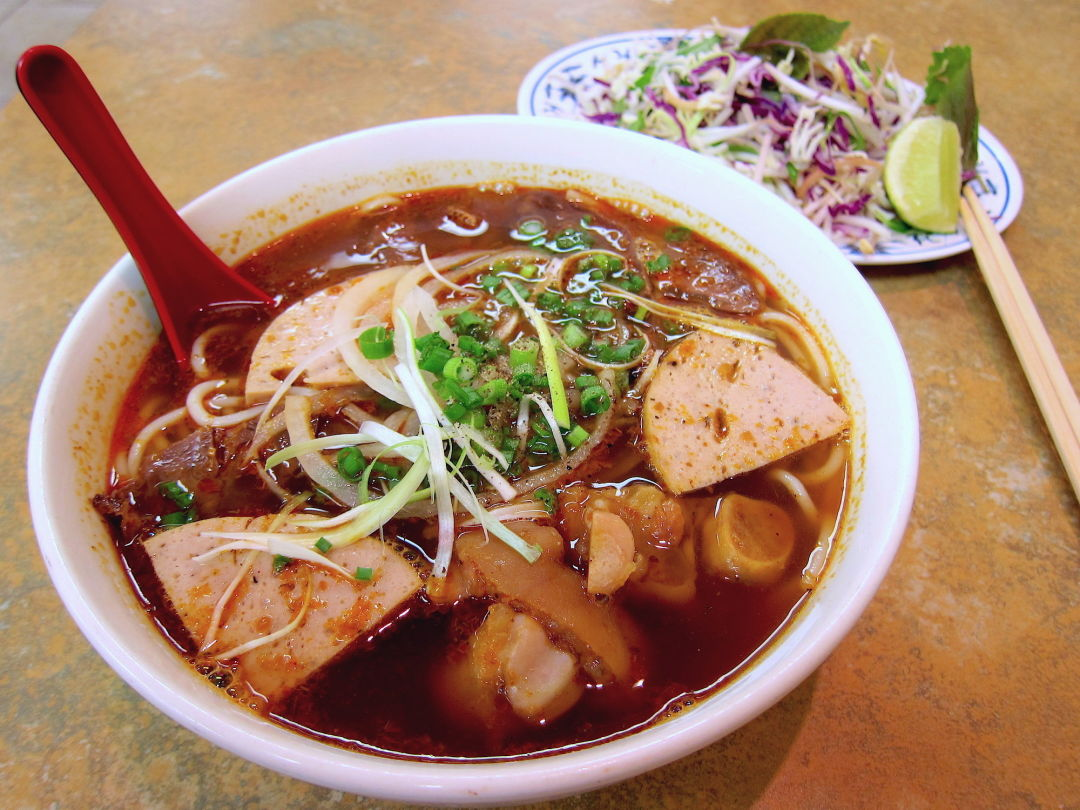chamoc: (154, 519, 435, 695), (645, 336, 858, 491)
onion: (364, 323, 574, 482)
pork: (443, 527, 636, 729), (558, 483, 798, 613)
